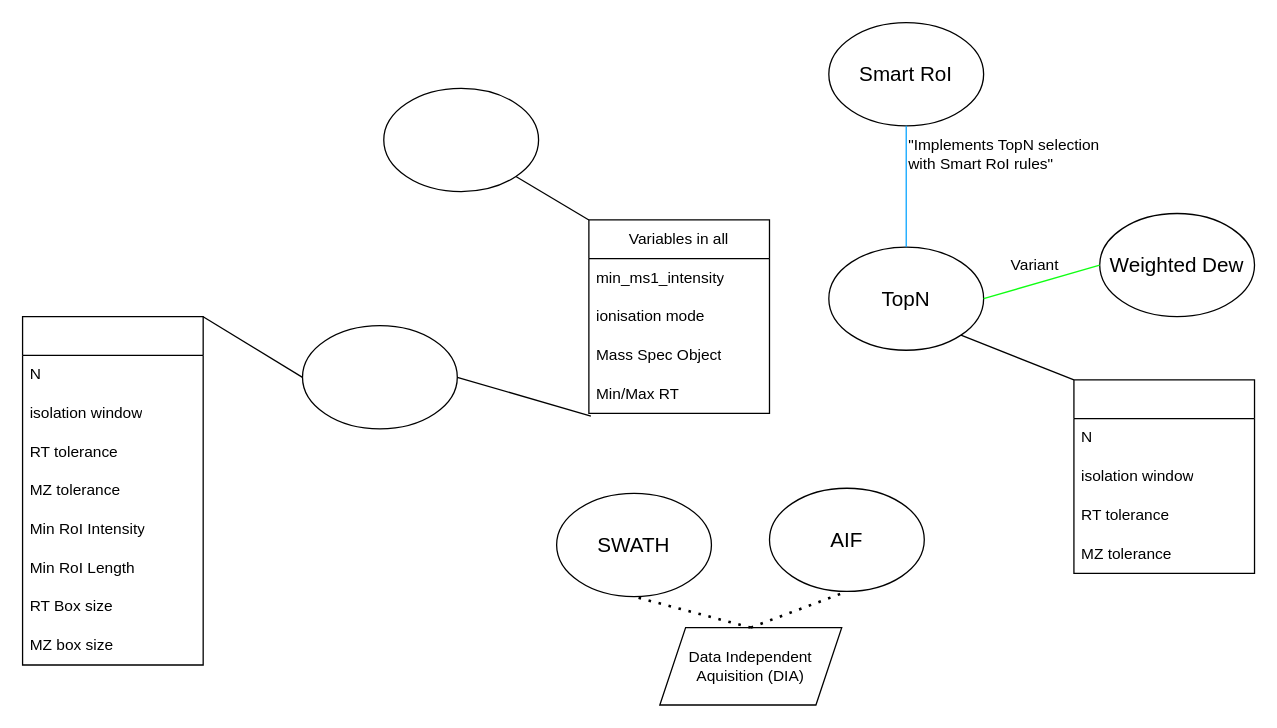
The diagram is 1277 pixels wide and 728 high, and some of its shapes have lost their labels. The shapes that lost their labels are listed below. From the top down, each one's box as (x1, y1, x2, y2) in pixels, then its label:
(382, 87, 539, 192): Full Scan (No fragment)
(301, 324, 457, 429): TopNEXt
(21, 315, 203, 665): TopNEXt Variables
(1073, 379, 1255, 573): TopN Variables
